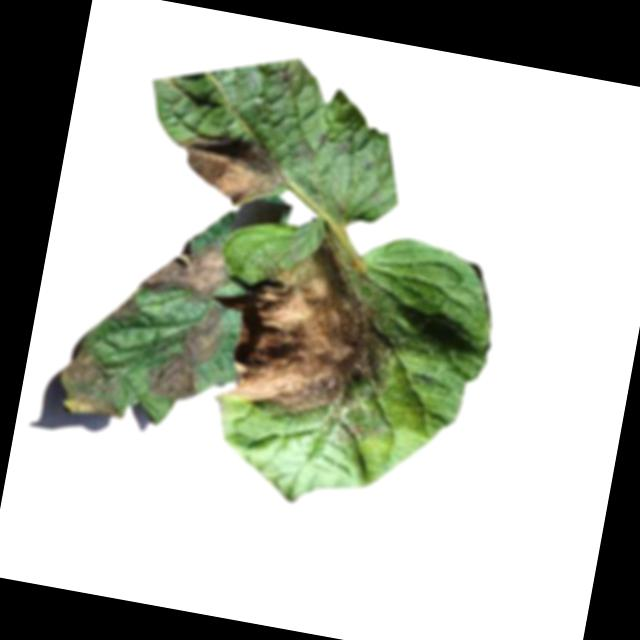Late_blight: (221, 222, 409, 429), (171, 123, 295, 213), (143, 295, 228, 408), (48, 336, 136, 425), (147, 229, 237, 307), (105, 287, 143, 327)
